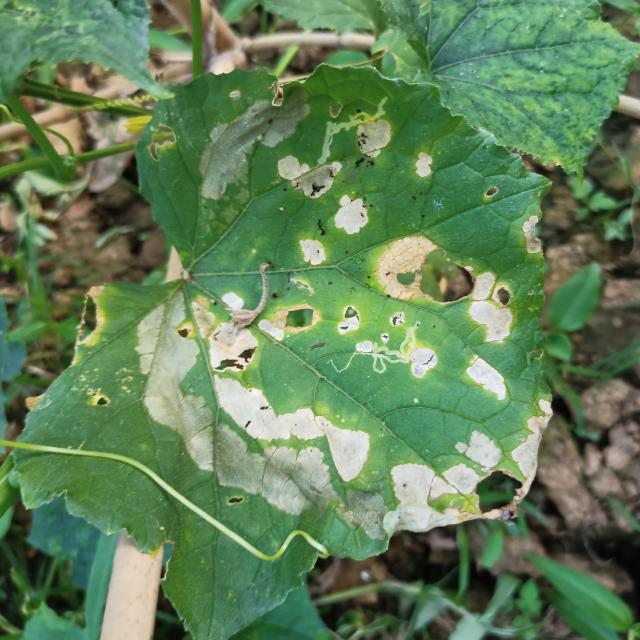disease_cucumber: (253, 94, 546, 344), (135, 290, 374, 540), (382, 318, 554, 544)
